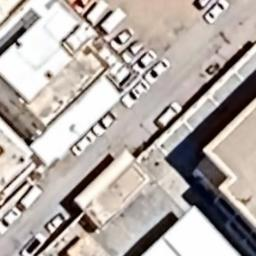SUV: (122, 37, 146, 63)
sedan: (120, 78, 150, 110), (144, 56, 174, 86), (91, 106, 120, 136), (44, 204, 72, 234), (130, 46, 158, 74), (68, 130, 96, 158), (110, 23, 136, 52), (205, 2, 231, 26), (0, 206, 22, 234)
van: (154, 98, 185, 132)
